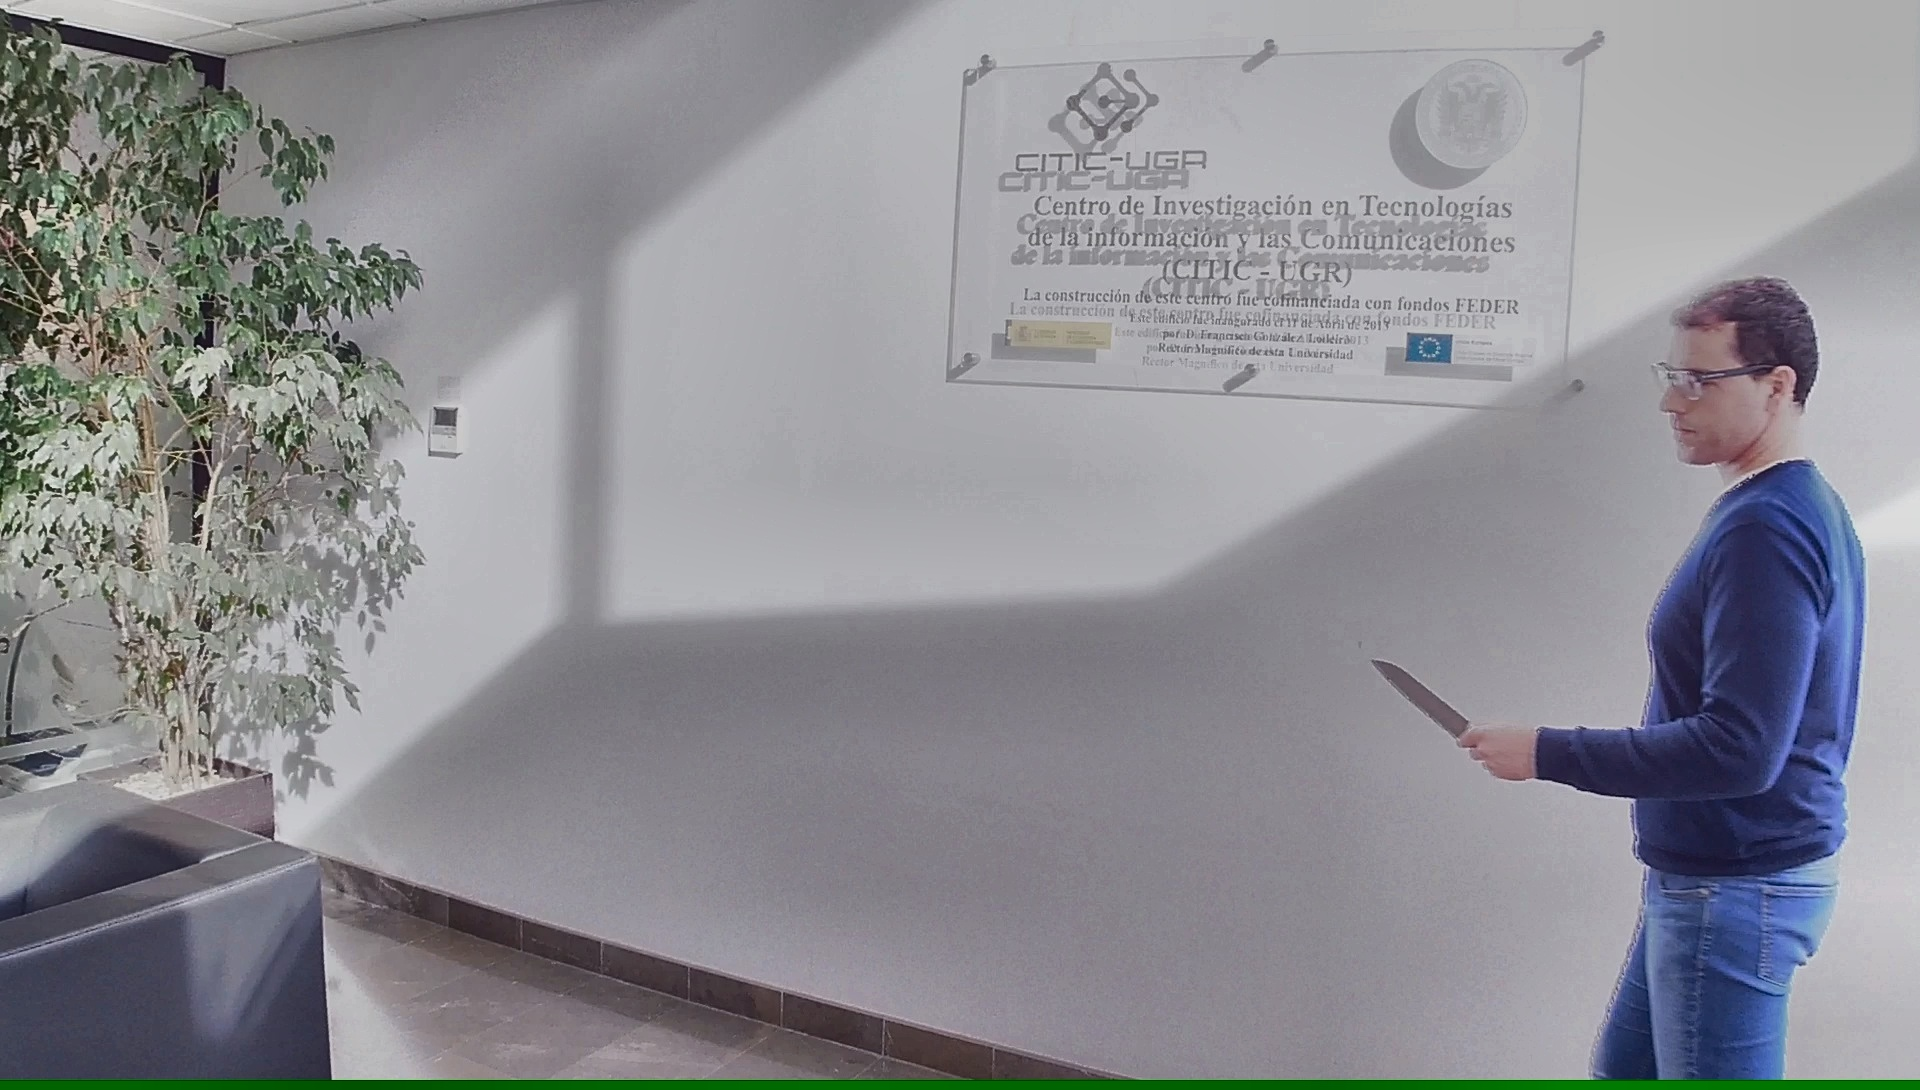knife: (1362, 648, 1503, 775)
